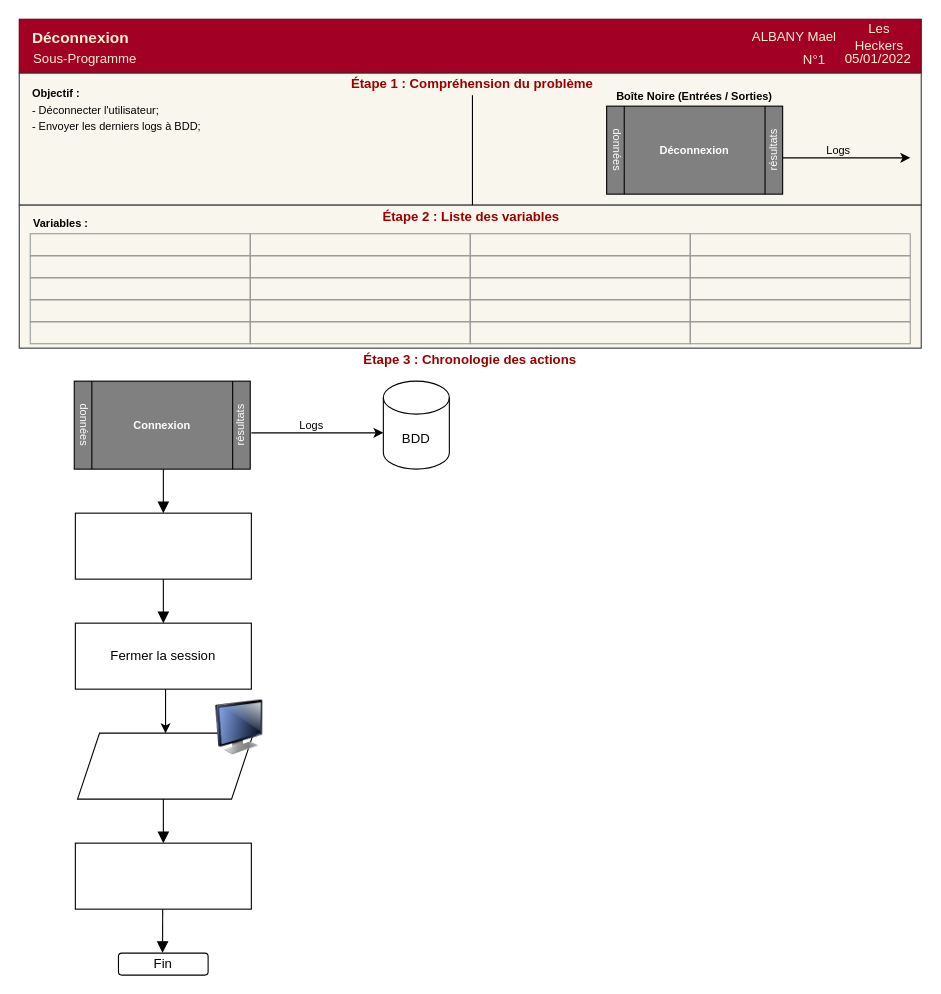
The diagram is 941 pixels wide and 994 high, and some of its shapes have lost their labels. Here are the shapes that lost their labels. From the top down, the box of each, then its label:
(74, 512, 251, 579): Enoyer les logs de fin de connexion (message, date et heure) à BDD
(76, 732, 254, 799): Afficher "Merci et bonne journée"
(74, 842, 251, 909): Attendre 5s
